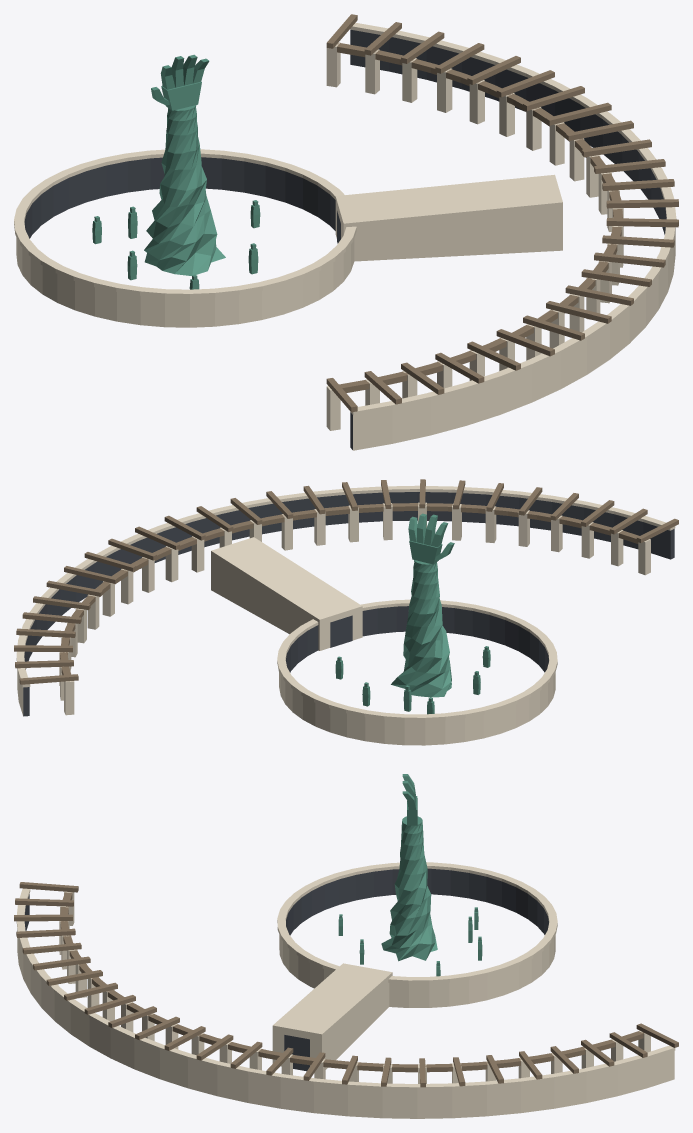
File: mia-holocaust-memorial.glb
3 renders of one model, top to bottom at view 1: azimuth 30°, elevation 25°; view 2: azimuth 150°, elevation 25°; view 3: azimuth 270°, elevation 25°, orthographic. The views are drawn at different scales.
Parts seen in each view (by area): view 1: Holocaust Memorial Miami Beach; view 2: Holocaust Memorial Miami Beach; view 3: Holocaust Memorial Miami Beach.
Part boxes in pixels (x1,y1,x2,y2): Holocaust Memorial Miami Beach: (14, 14, 678, 450); Holocaust Memorial Miami Beach: (14, 479, 678, 745); Holocaust Memorial Miami Beach: (14, 774, 678, 1118).
Bounding box in the file's own units: 42.44 × 14.58 × 51.91.
